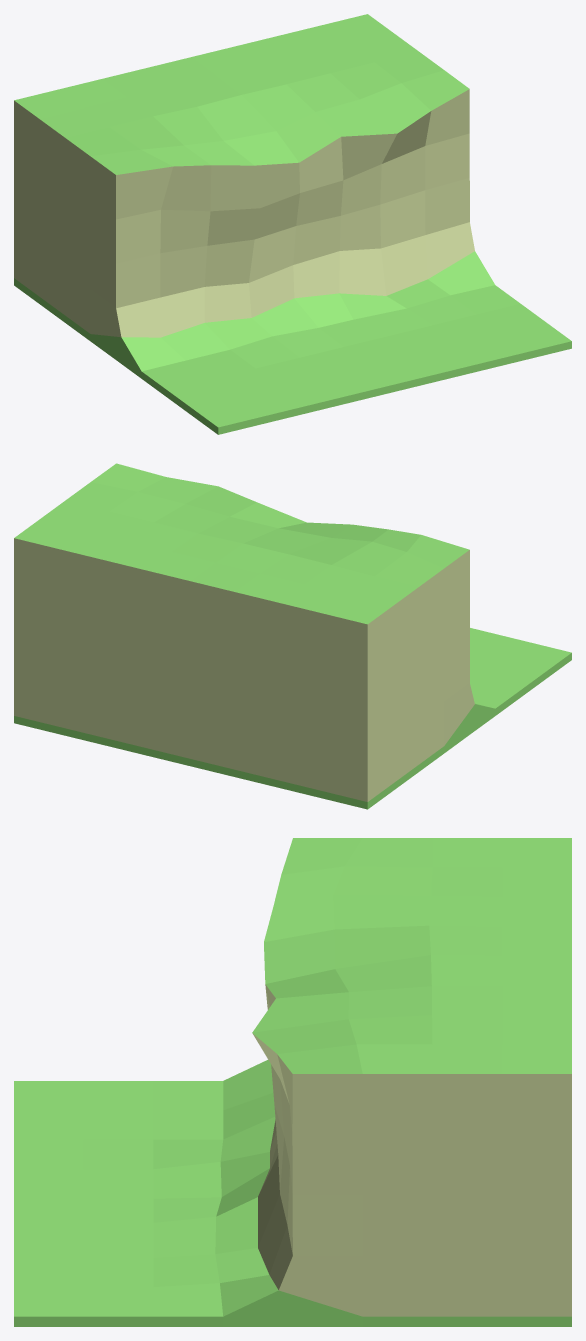
Rendered from wall_straight_2.glb.
3 views of the same model, one above another, from view 1: azimuth 30°, elevation 25°; view 2: azimuth 150°, elevation 25°; view 3: azimuth 270°, elevation 25° (orthographic). The views are drawn at different scales.
Visible parts, largest first — view 1: wall_straight_2; view 2: wall_straight_2; view 3: wall_straight_2.
Part boxes in pixels (<box>): wall_straight_2: <box>14,14,571,434</box>; wall_straight_2: <box>14,463,571,809</box>; wall_straight_2: <box>14,838,571,1326</box>.
Size of the model in its own units: 2 by 1 by 2.
